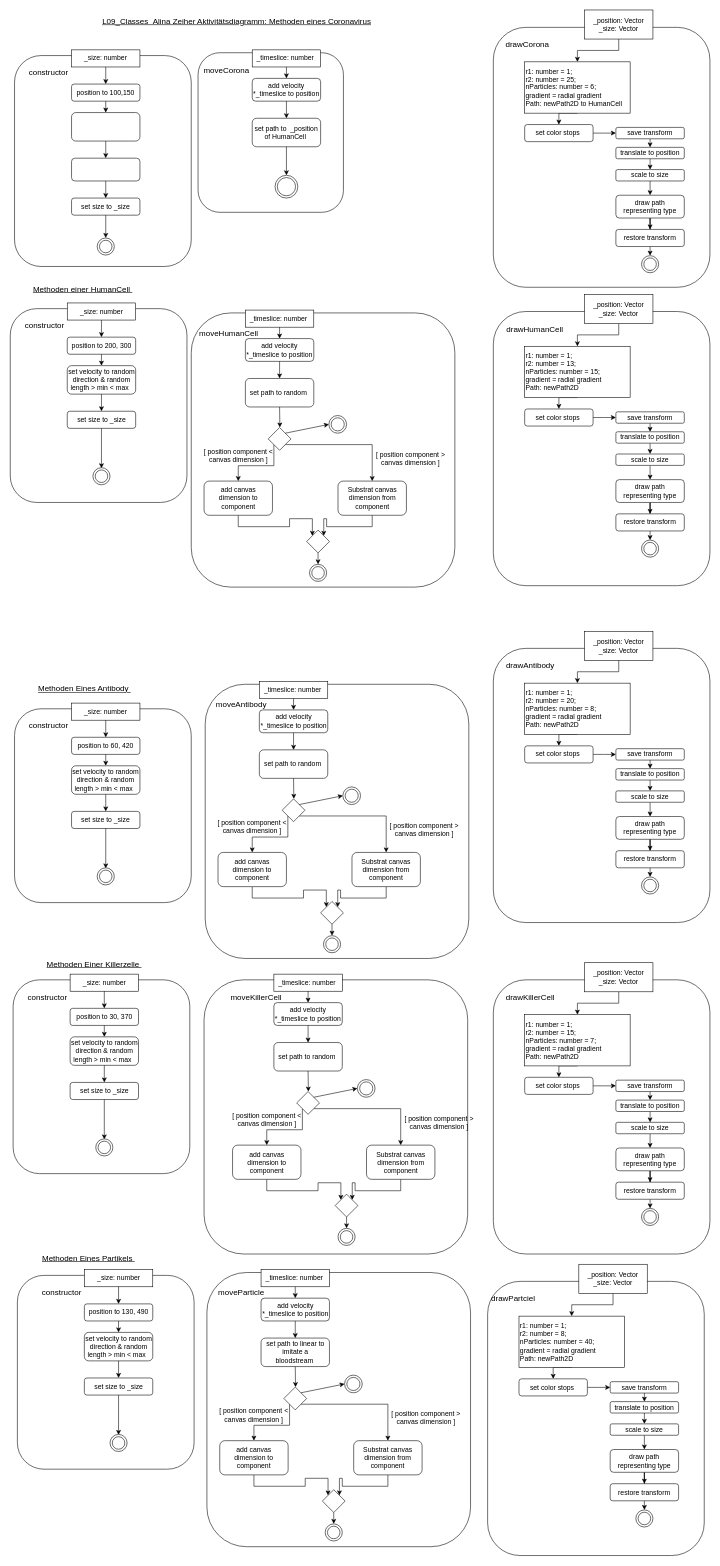
The diagram is 720 pixels wide and 1566 high, and some of its shapes have lost their labels. The shapes that lost their labels are listed below. From the top down, each one's box as (x1, y1, x2, y2) in pixels, then its label:
(71, 112, 140, 141): set velocity to slow
(71, 158, 140, 181): set target to HumanCell
